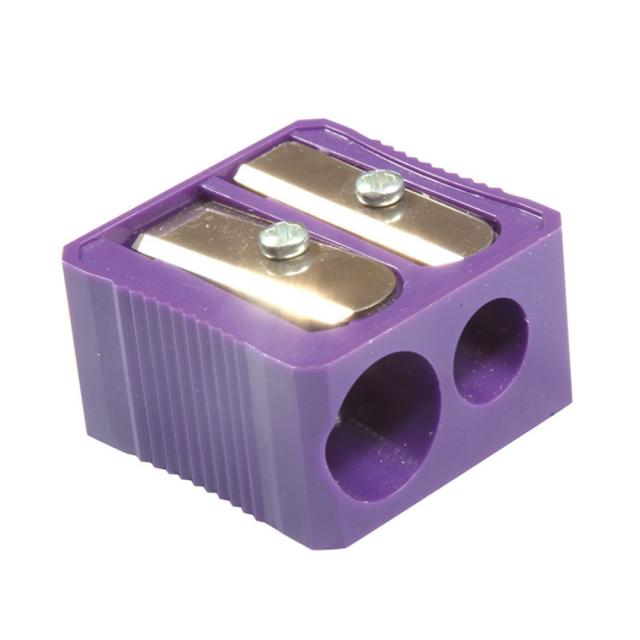pencil_sharpener: (42, 89, 602, 567)
